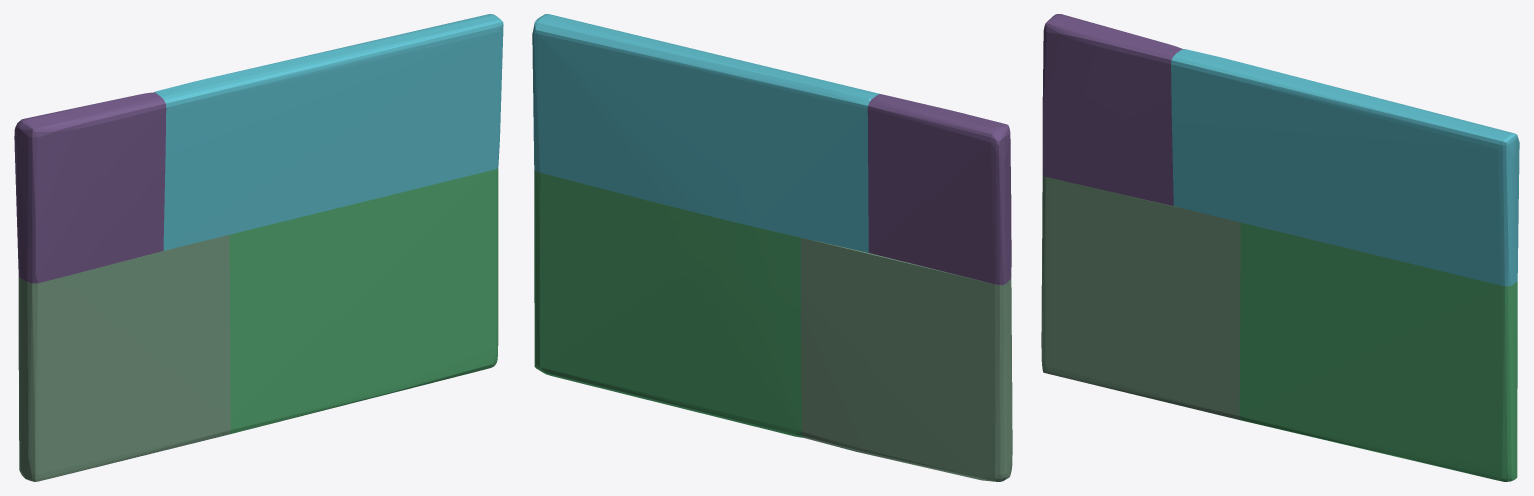
File: coacd_collision.obj
3 views of the same model, side by side, from view 1: azimuth 30°, elevation 25°; view 2: azimuth 150°, elevation 25°; view 3: azimuth 330°, elevation 25° (orthographic).
Visible parts, largest first — view 1: geometry_2, geometry_3, geometry_0, geometry_1; view 2: geometry_2, geometry_3, geometry_0, geometry_1; view 3: geometry_2, geometry_3, geometry_0, geometry_1.
Boxes of the visible parts, box(x1,y1,x2,y2) form: geometry_2: box(153, 14, 503, 250); geometry_3: box(229, 167, 498, 433); geometry_0: box(18, 235, 230, 481); geometry_1: box(14, 92, 166, 283); geometry_2: box(532, 14, 879, 252); geometry_3: box(534, 170, 803, 437); geometry_0: box(801, 237, 1012, 481); geometry_1: box(867, 94, 1011, 284); geometry_2: box(1171, 49, 1519, 286); geometry_3: box(1239, 222, 1517, 481); geometry_0: box(1041, 175, 1240, 419); geometry_1: box(1042, 14, 1183, 205).
Bounding box in the file's own units: 211 × 152 × 14.27.
